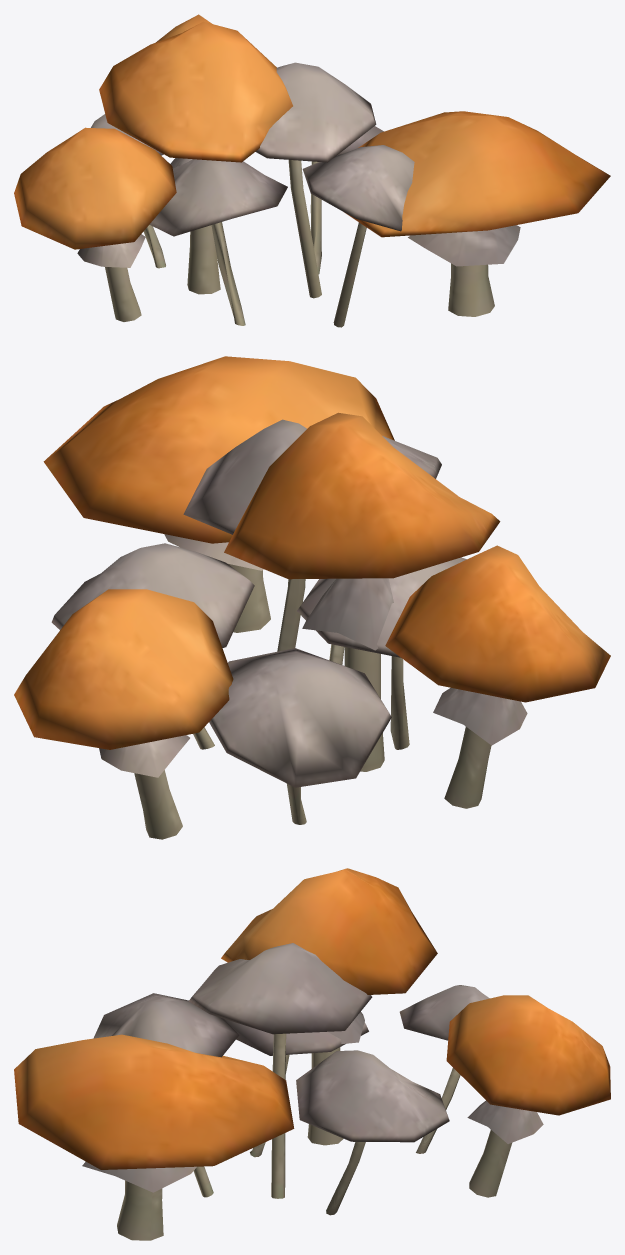
The model's file is mushrooms.glb.
The picture shows the model from 3 angles, top to bottom: view 1: azimuth 30°, elevation 25°; view 2: azimuth 150°, elevation 25°; view 3: azimuth 270°, elevation 25°; orthographic projection. The views are drawn at different scales.
Visible parts, largest first — view 1: Mushroom_RedCap, Mushroom_Common; view 2: Mushroom_RedCap, Mushroom_Common; view 3: Mushroom_RedCap, Mushroom_Common.
Part boxes in pixels (left/top/right/bottom): Mushroom_RedCap: left=14, top=14, right=610, bottom=321; Mushroom_Common: left=91, top=62, right=414, bottom=327; Mushroom_RedCap: left=14, top=356, right=610, bottom=839; Mushroom_Common: left=51, top=419, right=466, bottom=824; Mushroom_RedCap: left=14, top=868, right=610, bottom=1240; Mushroom_Common: left=93, top=943, right=489, bottom=1215.
Bounding box in the file's own units: 0.6398 × 0.35 × 0.6542.
Materials: 1 (1 with a texture image).
